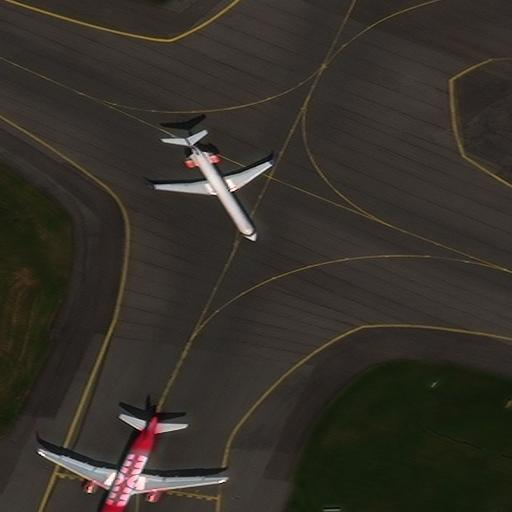Medium Civil Transport: (41, 406, 236, 512), (152, 130, 276, 244)
